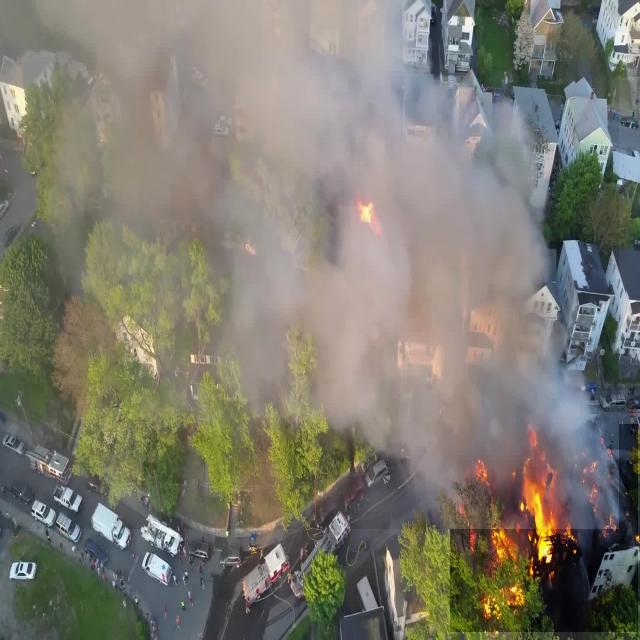Fire: (450, 424, 638, 632)
Smoke: (0, 0, 619, 529)
